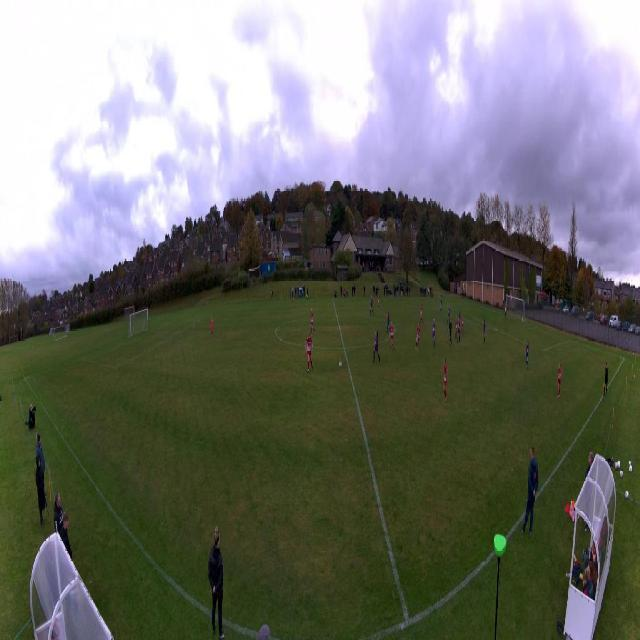ball: (339, 362, 342, 368)
player: (306, 332, 314, 372), (373, 331, 380, 363), (443, 360, 448, 401), (389, 322, 396, 350), (557, 364, 562, 398), (415, 322, 421, 350), (310, 308, 316, 335), (432, 319, 436, 347), (448, 317, 452, 345), (525, 341, 529, 367), (386, 308, 390, 333), (370, 295, 374, 316), (483, 319, 486, 344), (457, 317, 460, 342), (455, 316, 458, 338), (210, 315, 213, 337), (461, 314, 464, 335), (377, 294, 381, 309), (420, 304, 423, 324), (447, 305, 450, 323), (504, 305, 507, 321), (440, 298, 443, 313), (458, 309, 461, 324)
